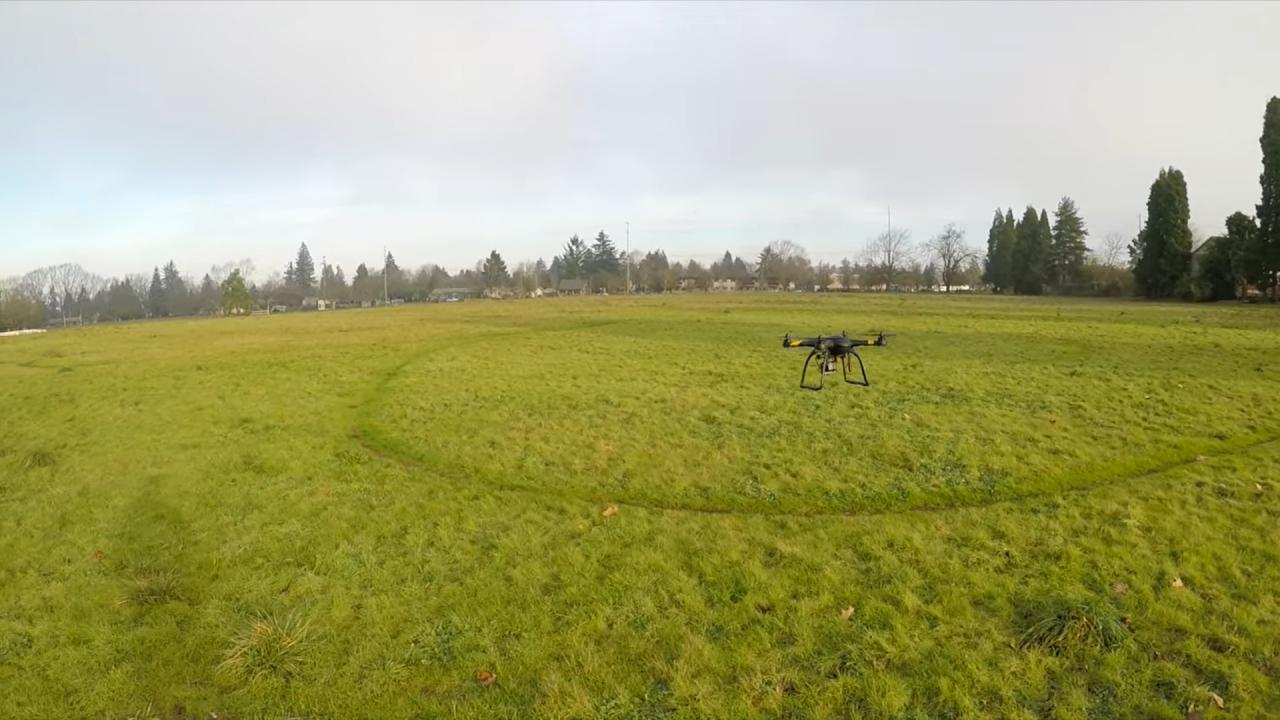Drone: (760, 318, 894, 399)
